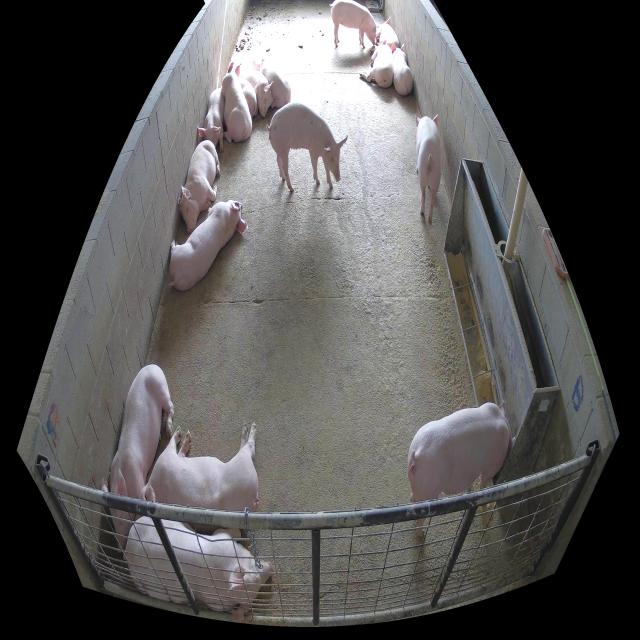pig: (124, 515, 274, 619), (408, 402, 515, 546), (101, 365, 174, 552), (139, 418, 258, 511), (268, 102, 348, 193), (170, 200, 248, 290), (178, 140, 221, 233), (416, 112, 441, 224), (222, 60, 252, 145), (331, 1, 376, 49), (239, 69, 280, 118), (253, 57, 292, 108), (357, 39, 394, 89), (198, 87, 224, 152), (391, 39, 414, 98), (376, 17, 400, 47), (240, 78, 257, 119)
